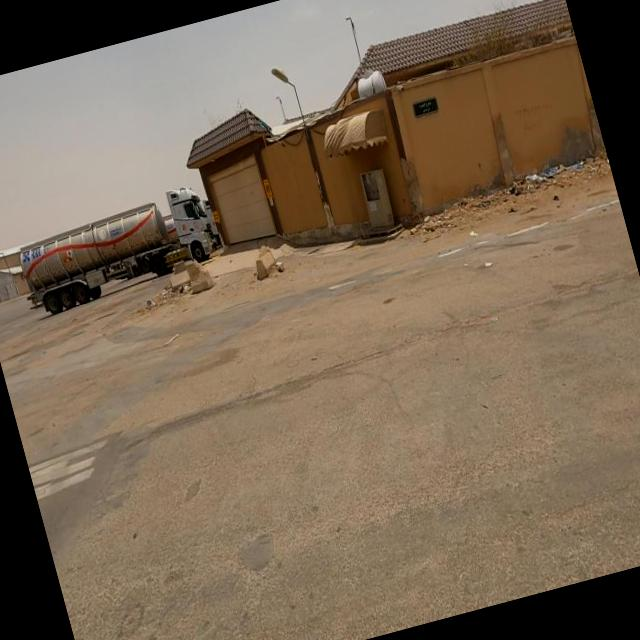debris: (493, 134, 582, 226), (528, 123, 616, 208), (479, 152, 544, 228), (111, 276, 176, 334), (444, 203, 500, 267), (462, 232, 512, 292), (160, 262, 212, 318)
